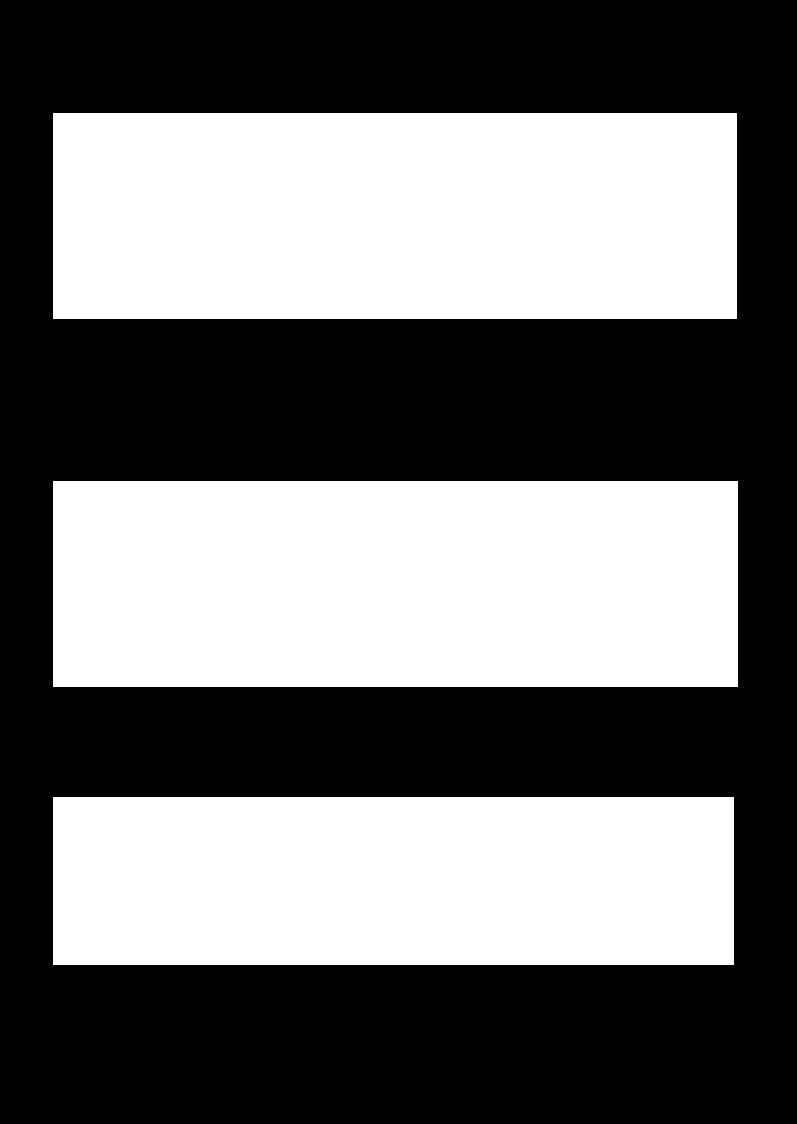table: (53, 481, 737, 686), (53, 113, 736, 318), (53, 797, 733, 964)
